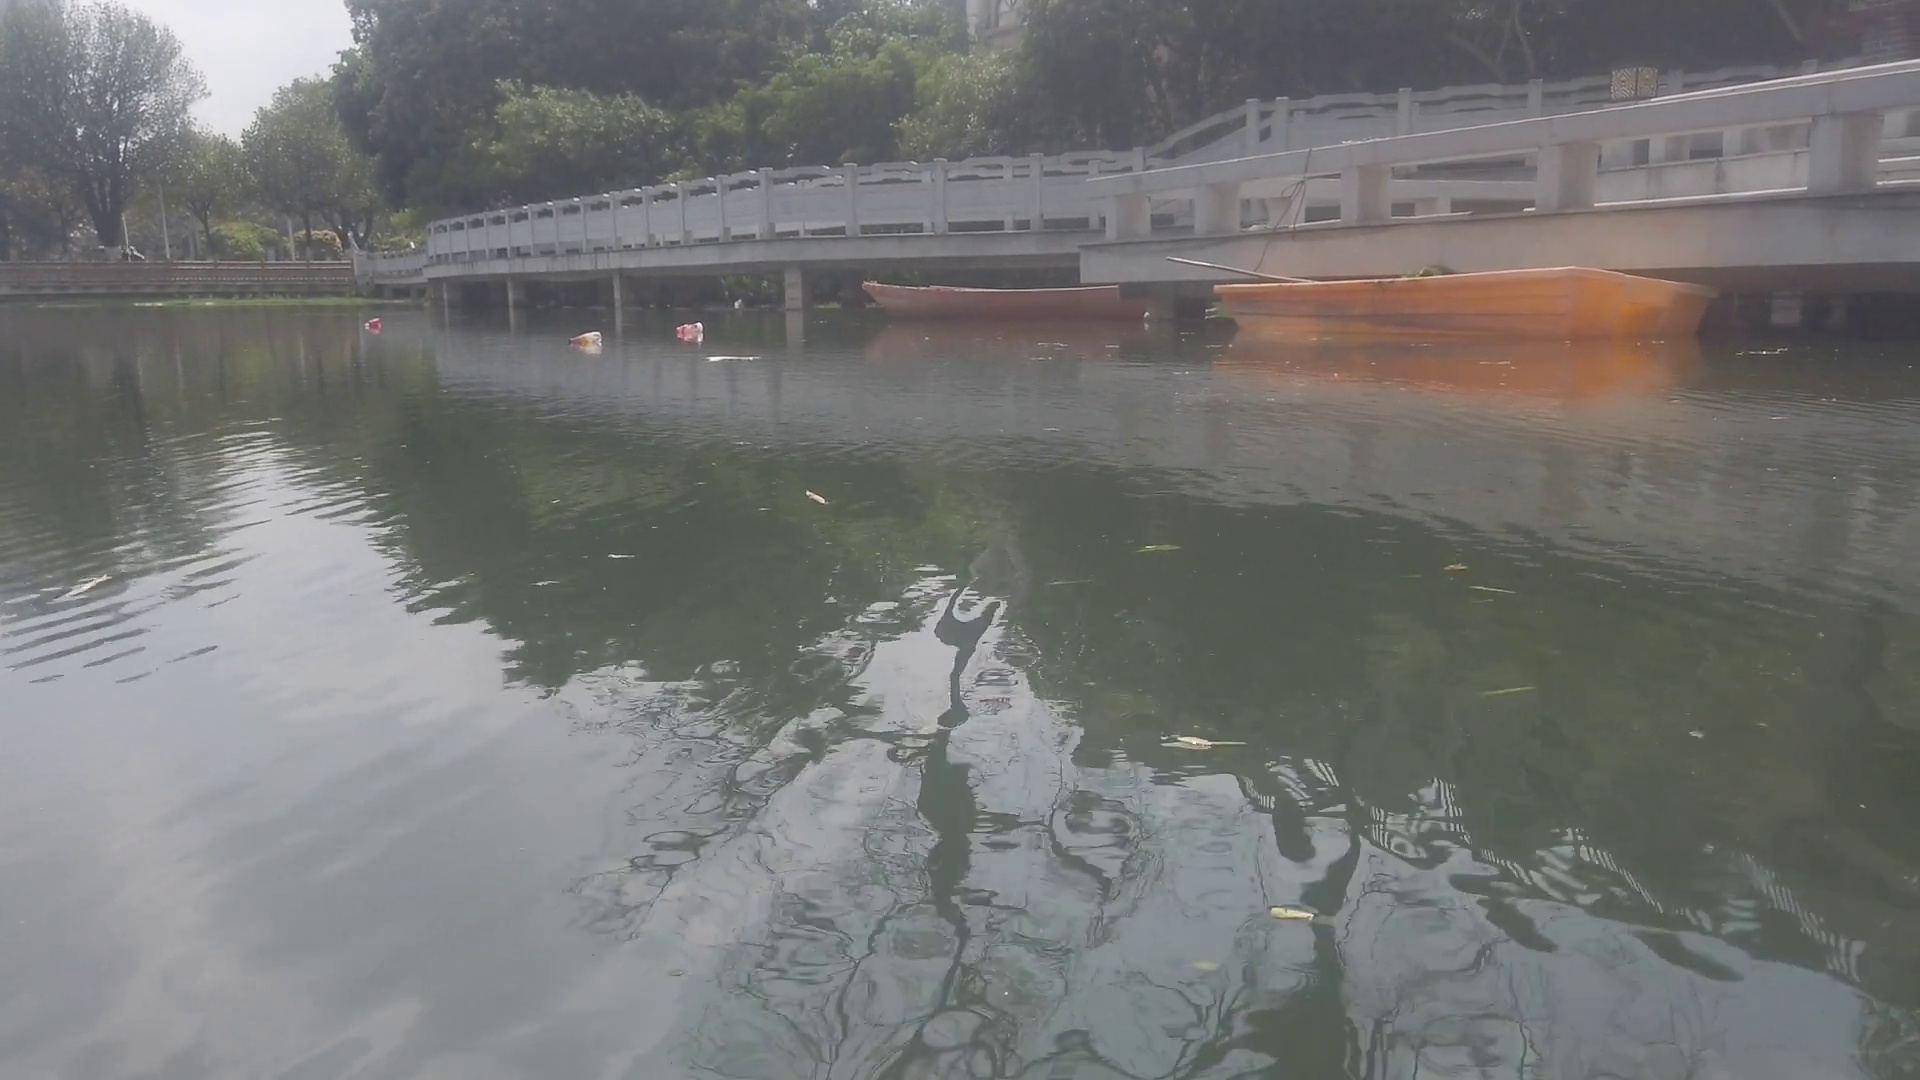bottle: (673, 320, 712, 335), (570, 330, 601, 344), (363, 316, 382, 328)
paper: (709, 355, 760, 367)
